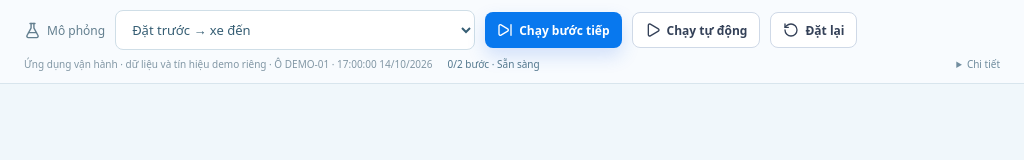
Scenario: scenario presenter › runs steps against the isolated lab and resets only the demo
Click the button "Chạy bước tiếp": (553, 30) [485, 12, 622, 48]
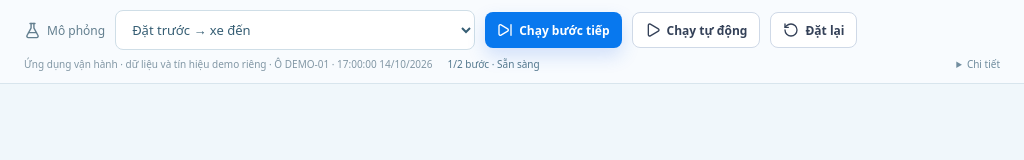
Expected: the text "1/2 bước · Sẵn sàng" is shown, [448, 57, 540, 71]
Click the button "Chạy bước tiếp": (553, 30) [485, 12, 622, 48]
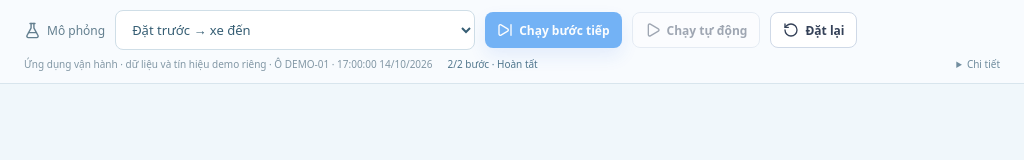
Expected: the text "2/2 bước · Hoàn tất" is shown, [448, 57, 538, 71]
Expected: the button "Chạy bước tiếp" is disabled, [485, 12, 622, 48]
Click the button "Đặt lại": (814, 30) [770, 12, 857, 48]
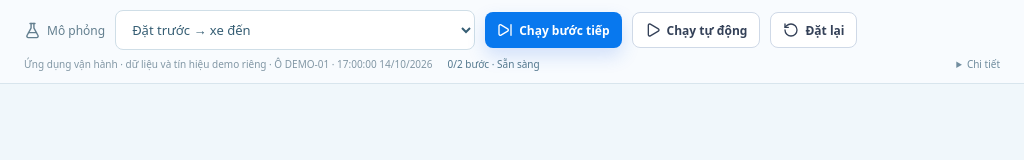
Expected: the text "0/2 bước · Sẵn sàng" is shown, [448, 57, 540, 71]
